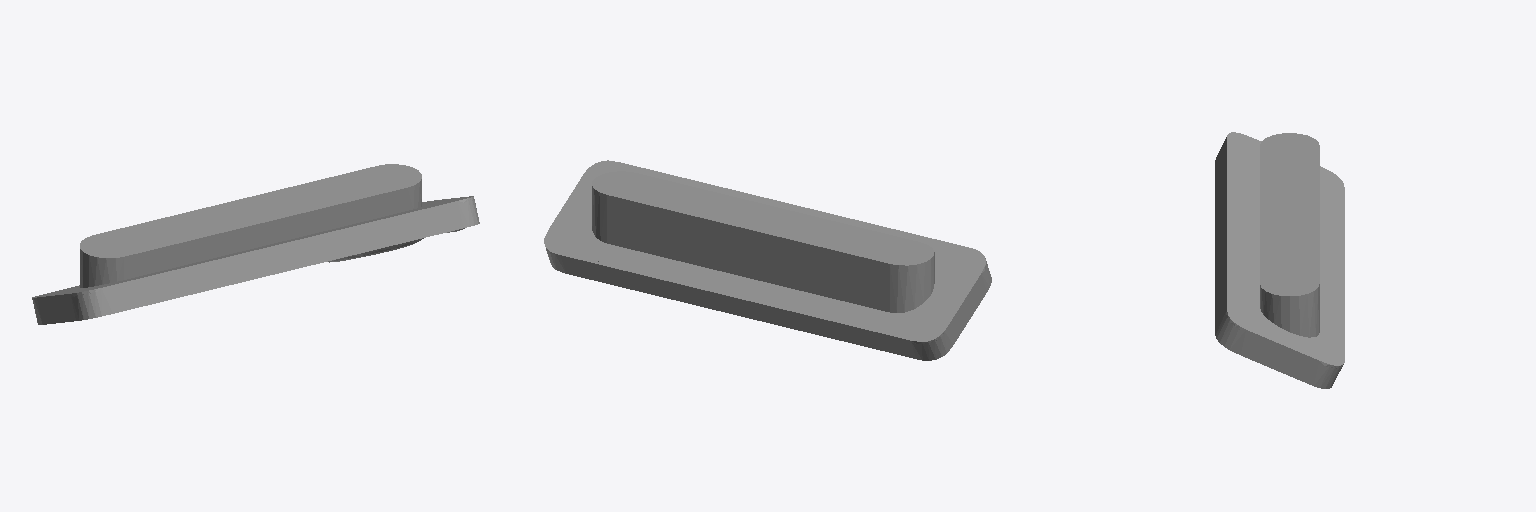
File: P1P_DisplayASM.obj
The picture shows the model from 3 angles: view 1: azimuth 30°, elevation 25°; view 2: azimuth 150°, elevation 25°; view 3: azimuth 270°, elevation 25°; orthographic projection.
Visible parts, largest first — view 1: Part__Feature011, Part__Feature010, Part__Feature013; view 2: Part__Feature011, Part__Feature013, Part__Feature010; view 3: Part__Feature013, Part__Feature011, Part__Feature010.
Boxes of the visible parts, <box> form: Part__Feature011: <box>80,164,421,287</box>; Part__Feature010: <box>32,196,479,324</box>; Part__Feature013: <box>32,196,474,299</box>; Part__Feature011: <box>592,171,934,312</box>; Part__Feature013: <box>544,161,986,343</box>; Part__Feature010: <box>544,160,991,360</box>; Part__Feature013: <box>1226,132,1344,368</box>; Part__Feature011: <box>1260,133,1319,337</box>; Part__Feature010: <box>1215,132,1344,388</box>.
Size of the model in its own units: 131 by 25.85 by 36.91.